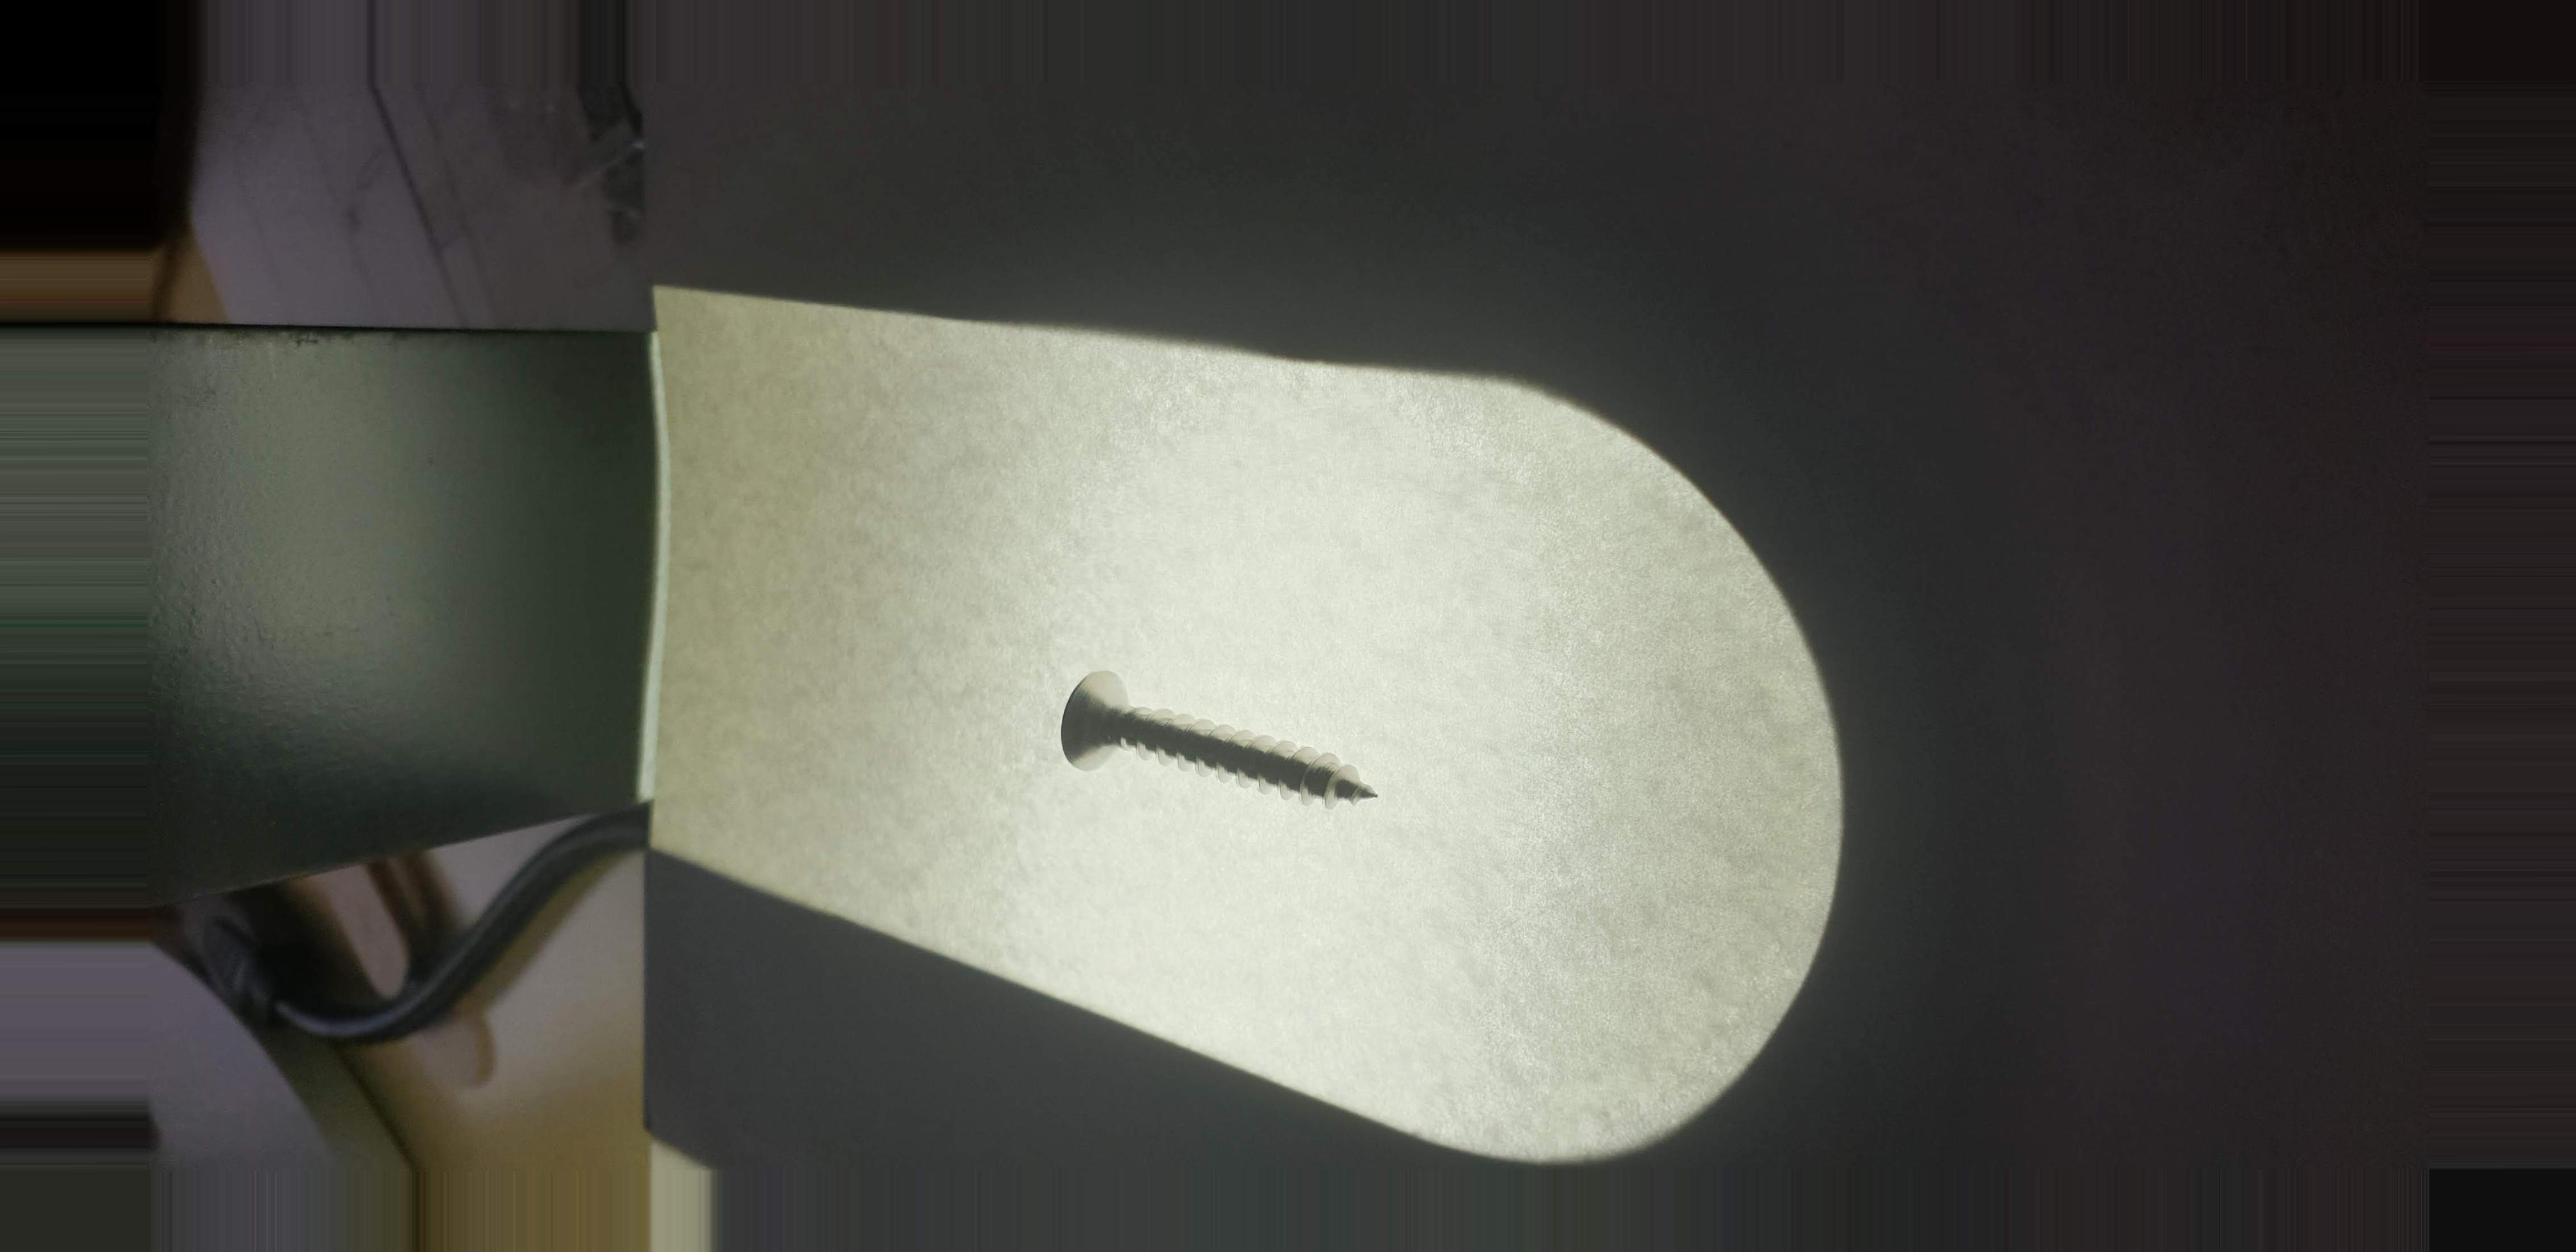S004: (1020, 642, 1441, 856)
